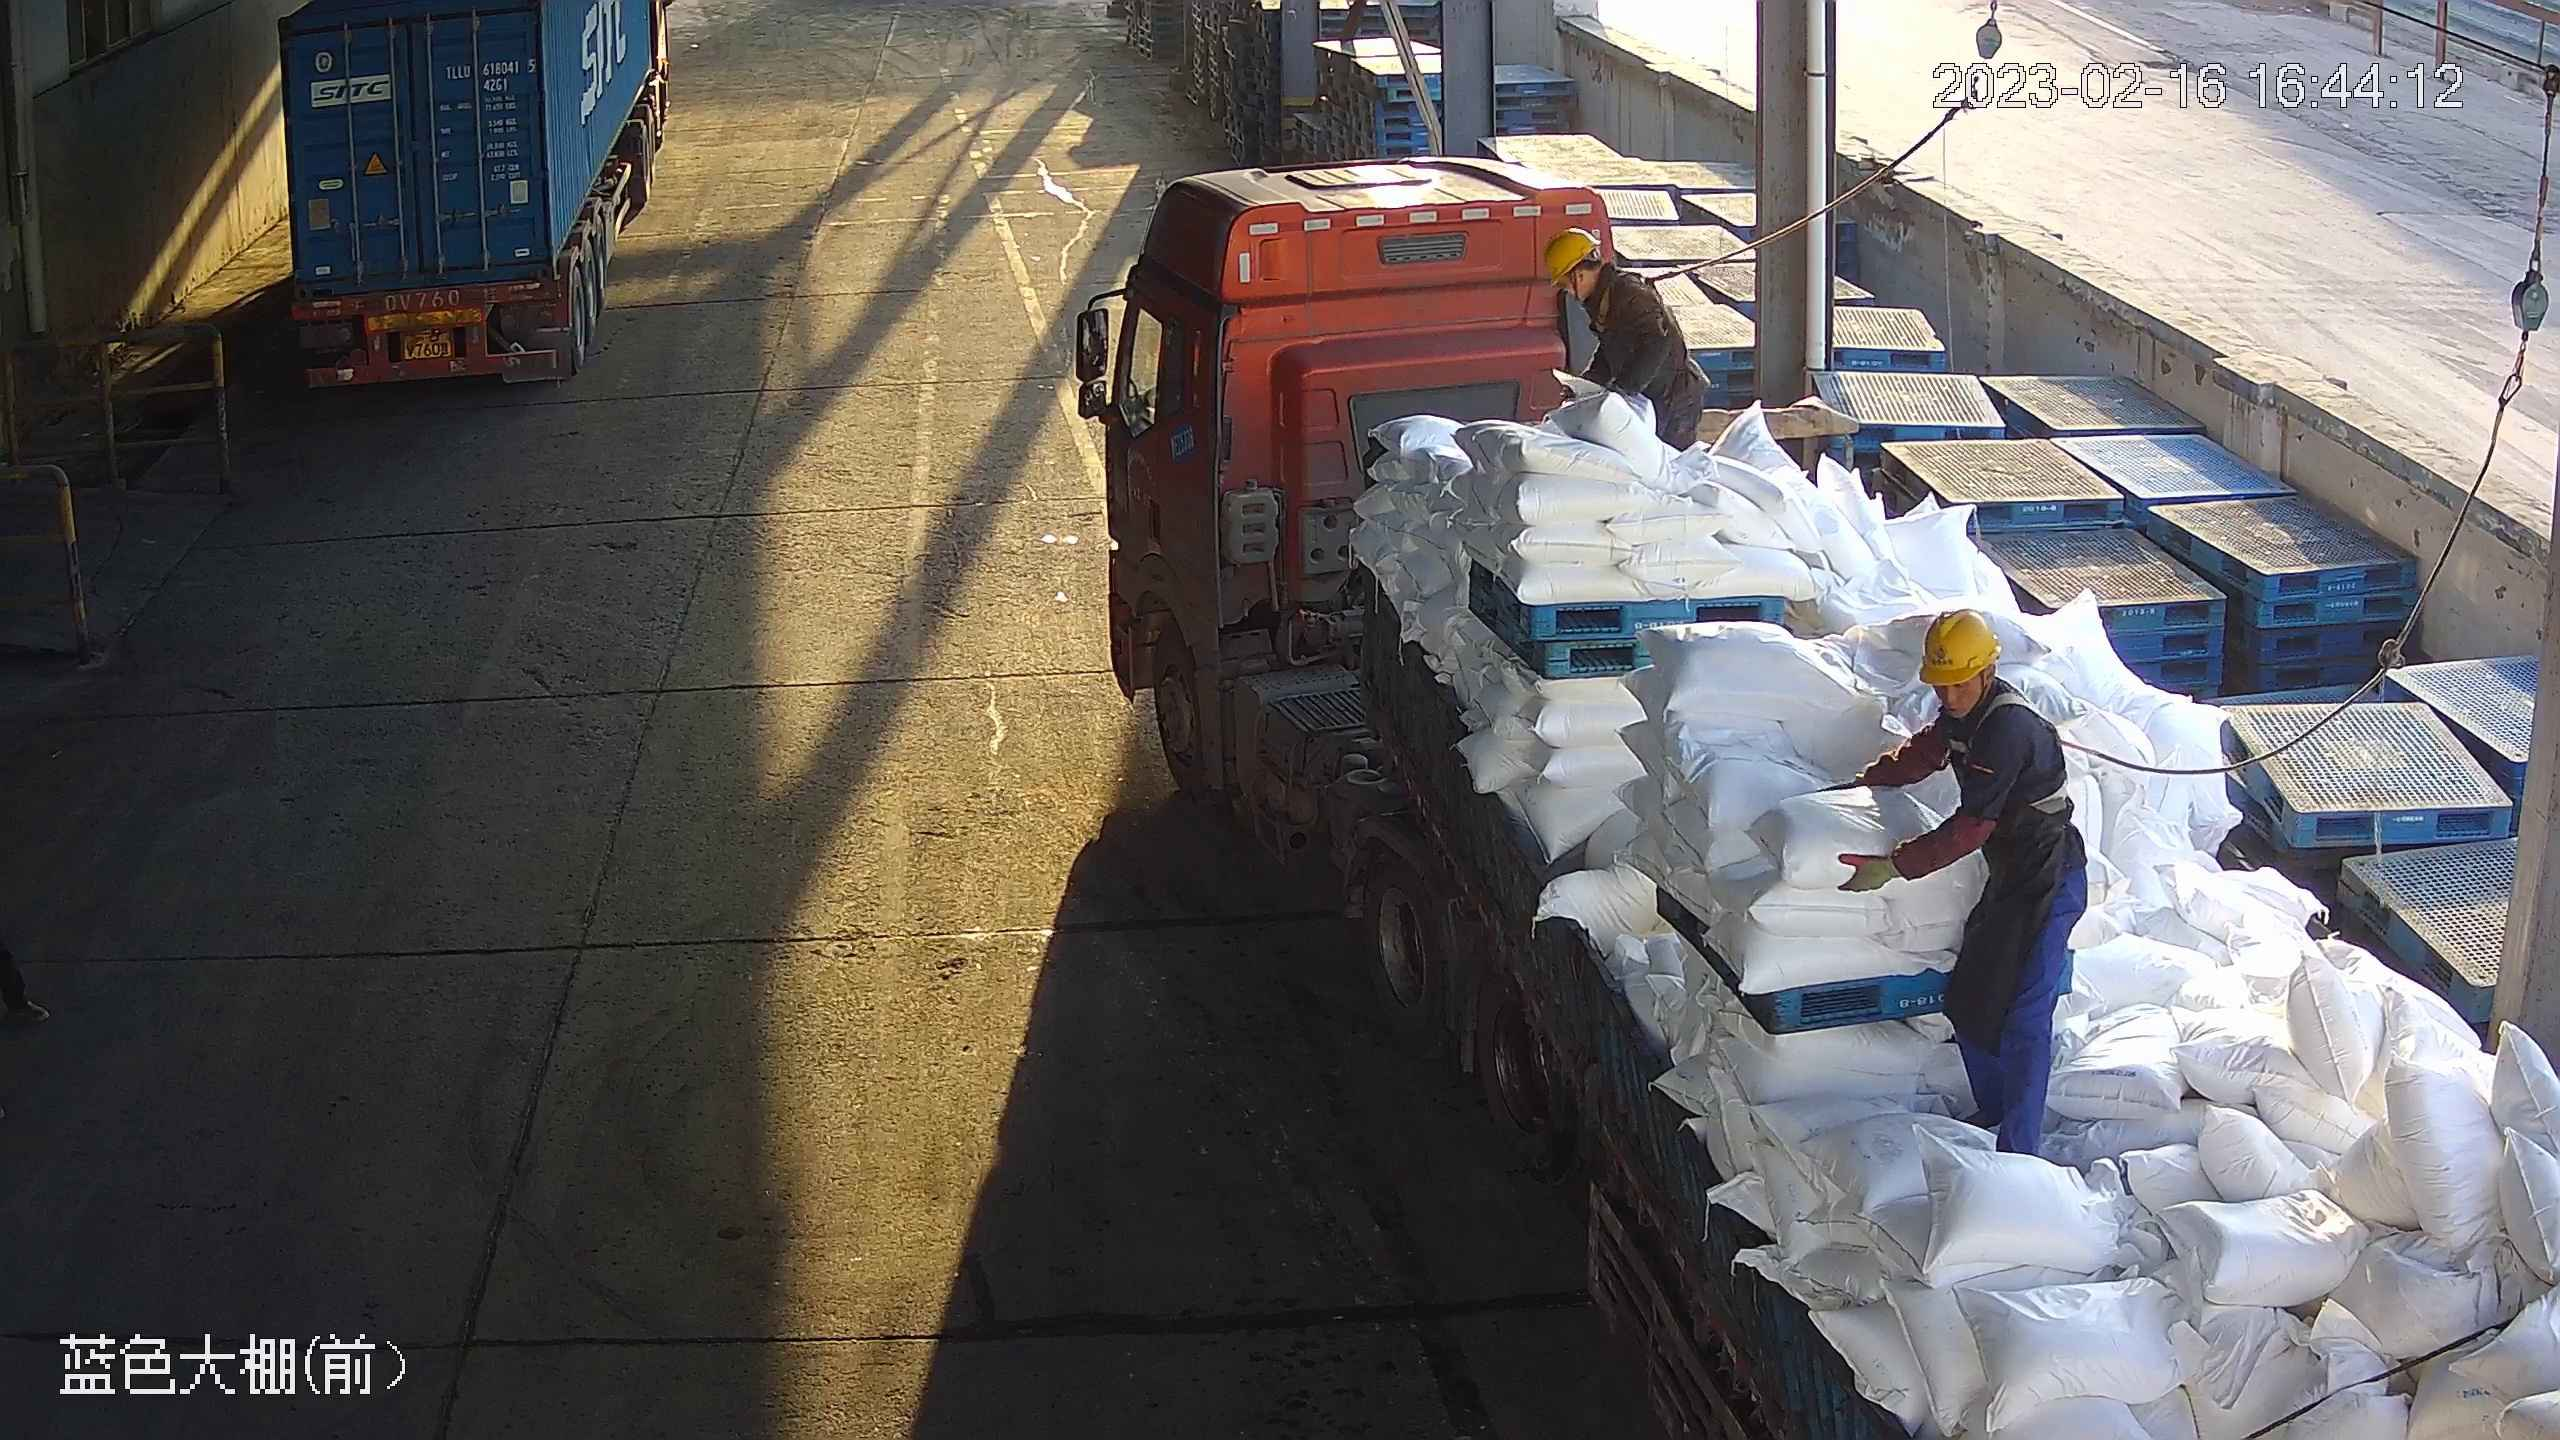belt: (1946, 692, 2070, 813), (1593, 269, 1683, 344)
head: (1904, 613, 2053, 767), (1542, 232, 1660, 323)
helmet: (1918, 609, 1997, 683), (1534, 229, 1595, 288)
people: (1830, 609, 2086, 1165), (1537, 230, 1711, 460)
truck: (1074, 151, 2560, 1440), (263, 1, 672, 386)
